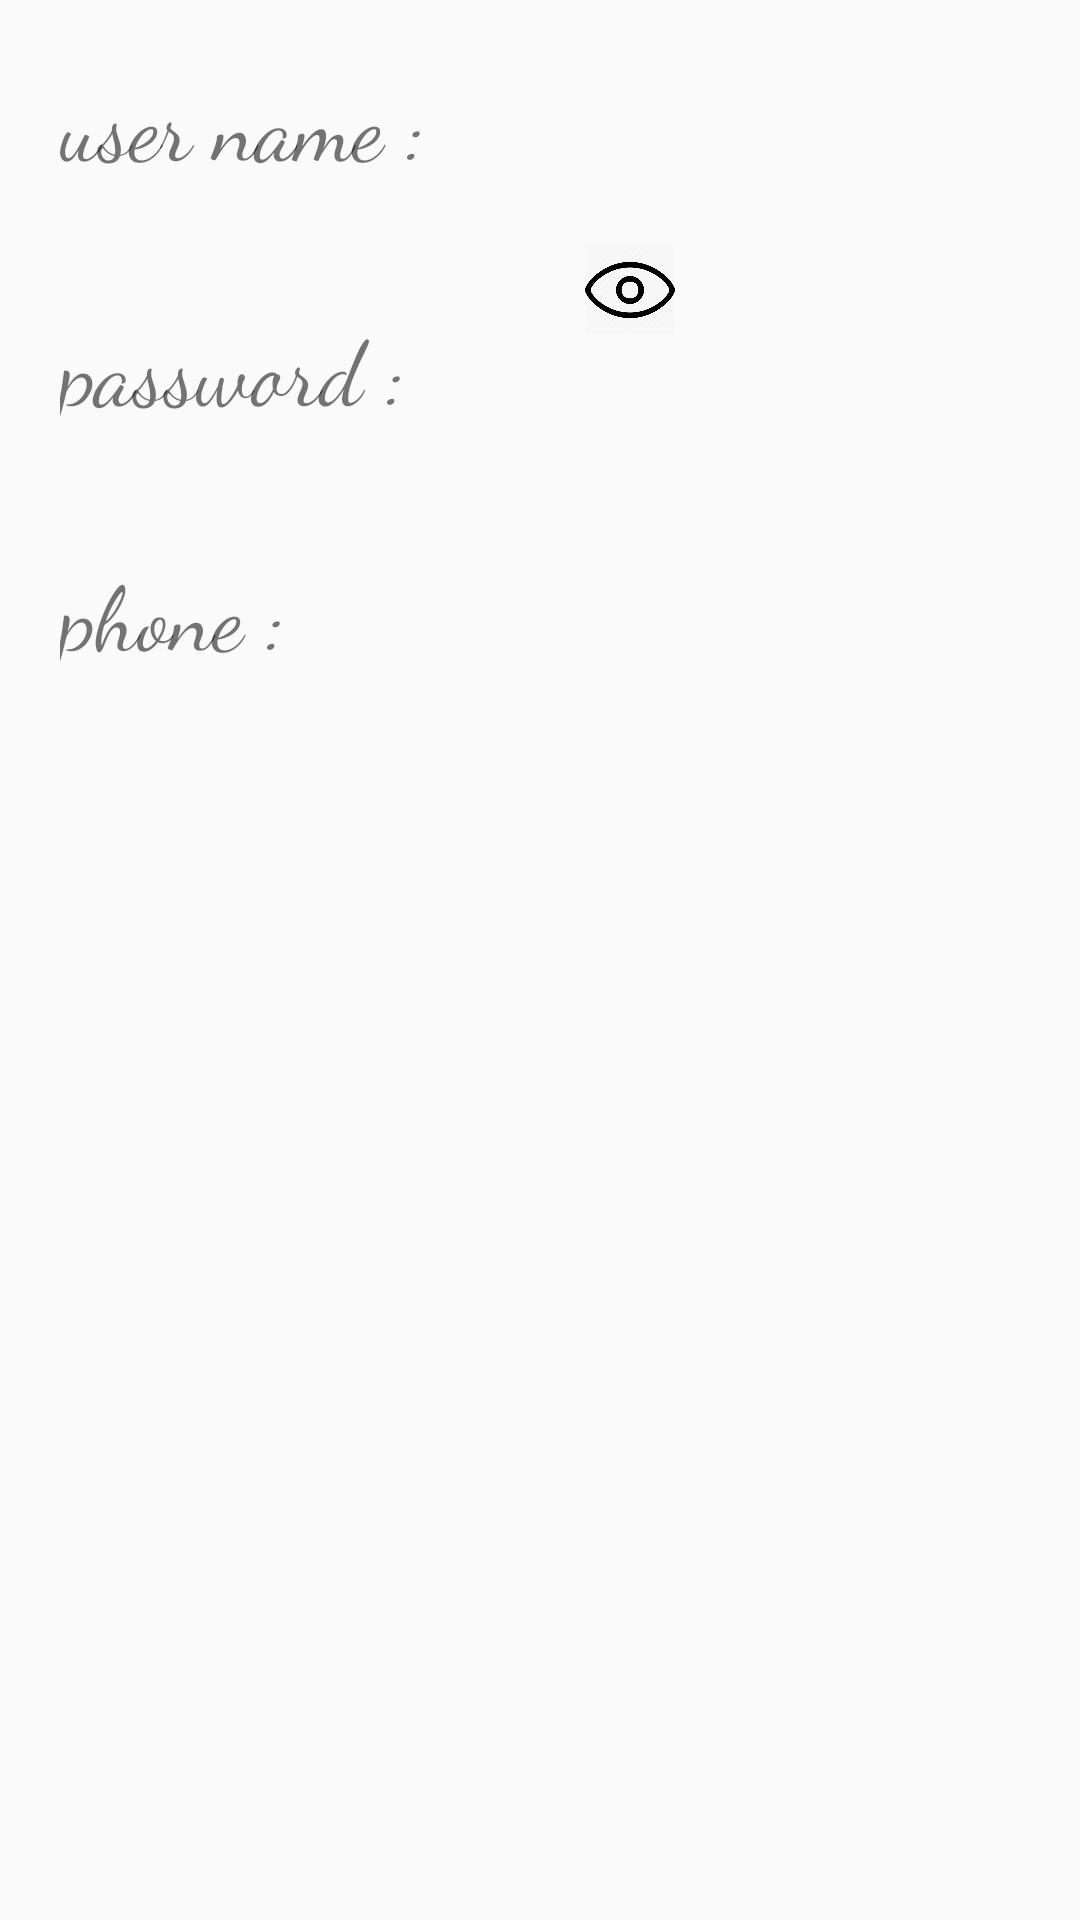

Where icons sit on this 1080 x 1920 app screen, as (x1, y1, x2, y2):
show: (585, 262, 675, 318)
